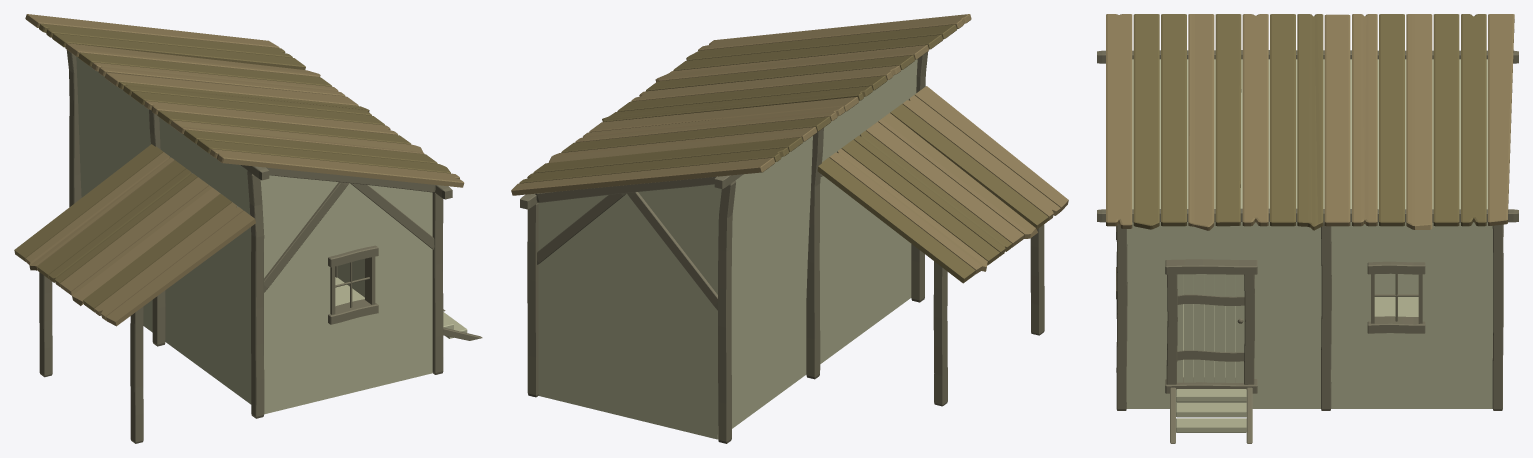
The model's file is House2.KapalSonHali.fbx.
3 renders of one model, left to right at view 1: azimuth 30°, elevation 25°; view 2: azimuth 150°, elevation 25°; view 3: azimuth 270°, elevation 25°, orthographic. The views are drawn at different scales.
Parts seen in each view (by area): view 1: Plane.020; view 2: Plane.020; view 3: Plane.020.
Part boxes in pixels (bbox=[...]): Plane.020: bbox=[14, 14, 482, 443]; Plane.020: bbox=[511, 14, 1068, 443]; Plane.020: bbox=[1097, 14, 1518, 443].
Bounding box in the file's own units: 1146 × 759 × 1023.
